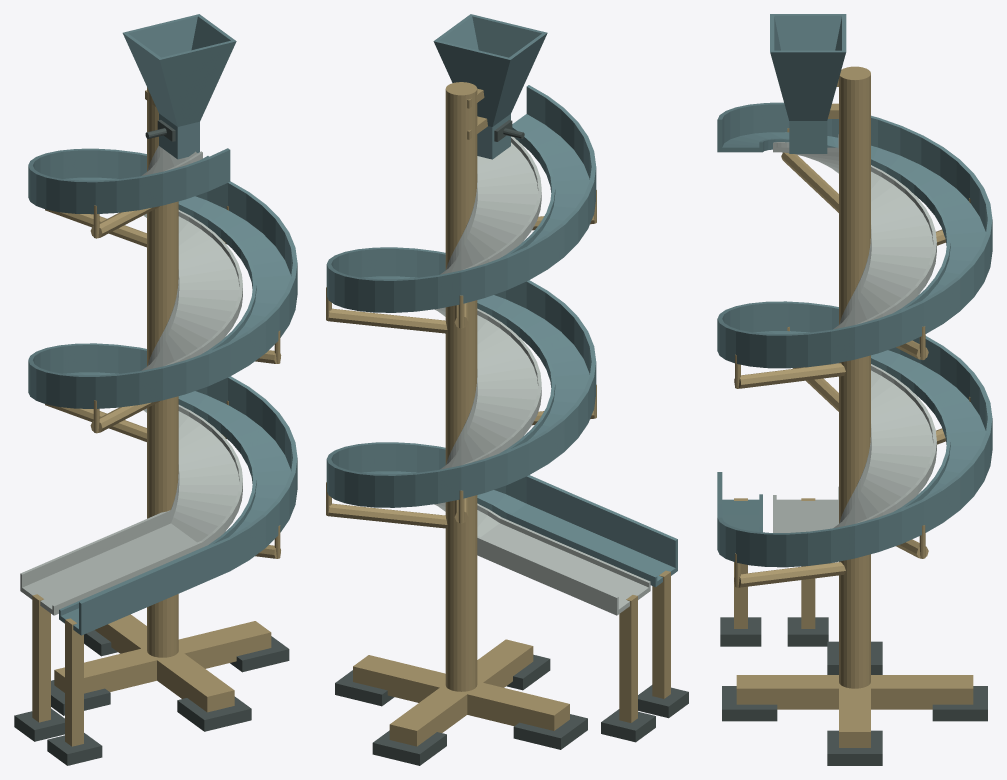
3 views of the same model, side by side, from view 1: azimuth 30°, elevation 25°; view 2: azimuth 150°, elevation 25°; view 3: azimuth 270°, elevation 25° (orthographic). The views are drawn at different scales.
Visible parts, largest first — view 1: WholeContinuousOuterCollectorSpiralAndOutlet, WholeContinuousInnerShallowSpiralAndOutlet, WholeTallCentralSupportMast, WholeOpenReceivingHopperAndHollowThroat, WholeLowCrossBaseMember0, WholeLowCrossBaseMember1, WholeOutletSupportingLeg1, WholeOutletSupportingLeg0, WholeGroundPad2, WholeOutletGroundPad1, WholeOutletGroundPad0, WholeGroundPad1 (+6 smaller); view 2: WholeContinuousOuterCollectorSpiralAndOutlet, WholeContinuousInnerShallowSpiralAndOutlet, WholeTallCentralSupportMast, WholeOpenReceivingHopperAndHollowThroat, WholeLowCrossBaseMember0, WholeLowCrossBaseMember1, WholeOutletSupportingLeg1, WholeOutletSupportingLeg0, WholeRadialUndersideSupport2, WholeRadialUndersideSupport6, WholeGroundPad3, WholeGroundPad0 (+4 smaller); view 3: WholeContinuousOuterCollectorSpiralAndOutlet, WholeContinuousInnerShallowSpiralAndOutlet, WholeTallCentralSupportMast, WholeOpenReceivingHopperAndHollowThroat, WholeLowCrossBaseMember1, WholeLowCrossBaseMember0, WholeRadialUndersideSupport3, WholeRadialUndersideSupport7, WholeGroundPad1, WholeGroundPad2, WholeGroundPad3, WholeOutletGroundPad0 (+6 smaller).
Boxes of the visible parts, x1=… form: WholeContinuousOuterCollectorSpiralAndOutlet: x1=28, y1=148, x2=297, y2=635; WholeContinuousInnerShallowSpiralAndOutlet: x1=20, y1=145, x2=242, y2=615; WholeTallCentralSupportMast: x1=147, y1=87, x2=178, y2=657; WholeOpenReceivingHopperAndHollowThroat: x1=122, y1=14, x2=236, y2=159; WholeLowCrossBaseMember0: x1=54, y1=621, x2=271, y2=693; WholeLowCrossBaseMember1: x1=95, y1=614, x2=234, y2=712; WholeOutletSupportingLeg1: x1=65, y1=618, x2=83, y2=746; WholeOutletSupportingLeg0: x1=32, y1=594, x2=50, y2=722; WholeGroundPad2: x1=177, y1=696, x2=251, y2=731; WholeOutletGroundPad1: x1=47, y1=733, x2=102, y2=765; WholeOutletGroundPad0: x1=14, y1=708, x2=64, y2=741; WholeGroundPad1: x1=230, y1=636, x2=289, y2=672; WholeContinuousOuterCollectorSpiralAndOutlet: x1=326, y1=85, x2=677, y2=587; WholeContinuousInnerShallowSpiralAndOutlet: x1=434, y1=136, x2=650, y2=615; WholeTallCentralSupportMast: x1=445, y1=82, x2=477, y2=691; WholeOpenReceivingHopperAndHollowThroat: x1=433, y1=14, x2=547, y2=159; WholeLowCrossBaseMember0: x1=353, y1=655, x2=569, y2=730; WholeLowCrossBaseMember1: x1=389, y1=639, x2=533, y2=746; WholeOutletSupportingLeg1: x1=652, y1=570, x2=670, y2=698; WholeOutletSupportingLeg0: x1=619, y1=595, x2=637, y2=722; WholeRadialUndersideSupport2: x1=328, y1=308, x2=447, y2=333; WholeRadialUndersideSupport6: x1=328, y1=503, x2=447, y2=528; WholeGroundPad3: x1=372, y1=730, x2=446, y2=765; WholeGroundPad0: x1=513, y1=714, x2=587, y2=749; WholeContinuousOuterCollectorSpiralAndOutlet: x1=717, y1=102, x2=992, y2=567; WholeContinuousInnerShallowSpiralAndOutlet: x1=773, y1=134, x2=936, y2=532; WholeTallCentralSupportMast: x1=839, y1=66, x2=870, y2=688; WholeOpenReceivingHopperAndHollowThroat: x1=770, y1=14, x2=846, y2=153; WholeLowCrossBaseMember1: x1=736, y1=675, x2=973, y2=709; WholeLowCrossBaseMember0: x1=839, y1=683, x2=870, y2=747; WholeRadialUndersideSupport3: x1=734, y1=363, x2=845, y2=388; WholeRadialUndersideSupport7: x1=734, y1=562, x2=845, y2=587; WholeGroundPad1: x1=827, y1=730, x2=882, y2=765; WholeGroundPad2: x1=722, y1=686, x2=777, y2=721; WholeGroundPad3: x1=932, y1=686, x2=987, y2=721; WholeOutletGroundPad0: x1=787, y1=617, x2=828, y2=646.
Bounding box in the file's own units: 1.12 × 2.54 × 0.94.
